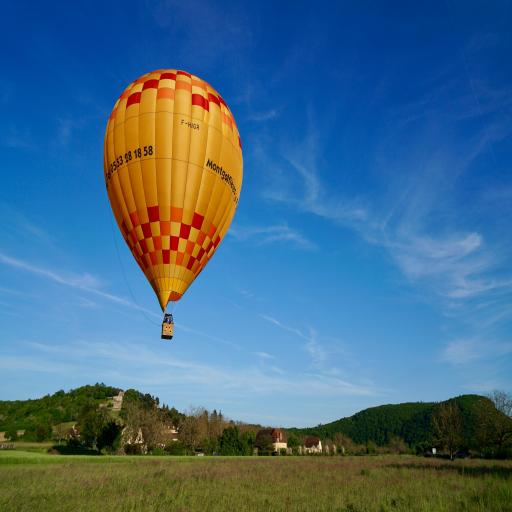hot air ballon: (104, 70, 243, 340)
